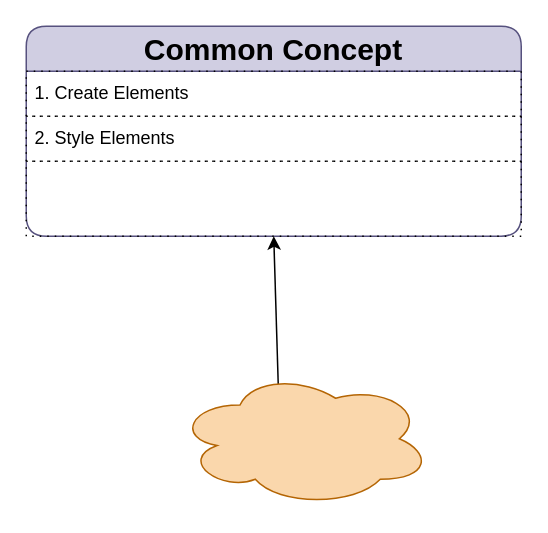
The diagram is 548 pixels wide and 533 high, and some of its shapes have lost their labels. Each missing label, with the centre of its shape:
3. Dynaimically creating/adding and Style Element with logics: point (273, 198)
Apps Concepts: point (303, 438)
